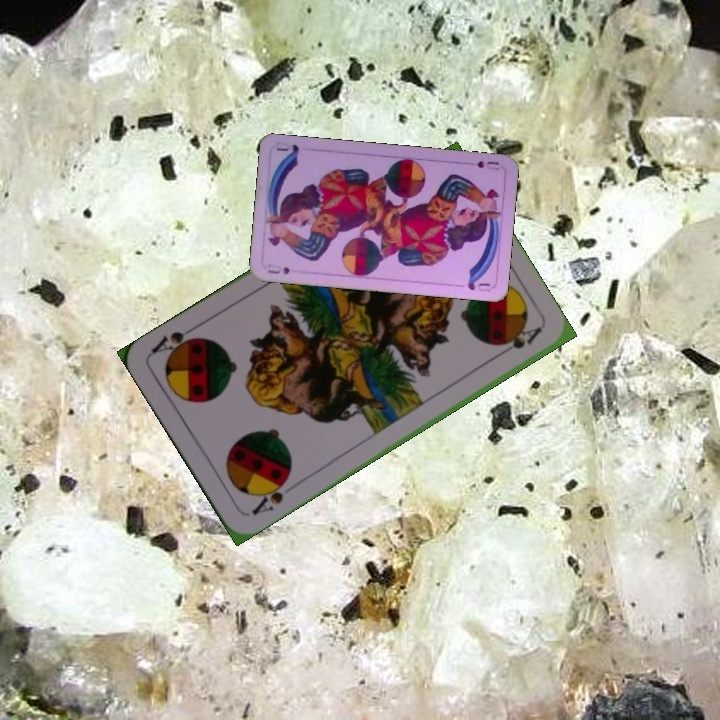SA: (248, 472, 292, 518)
SU: (462, 157, 501, 173), (264, 260, 292, 276)
